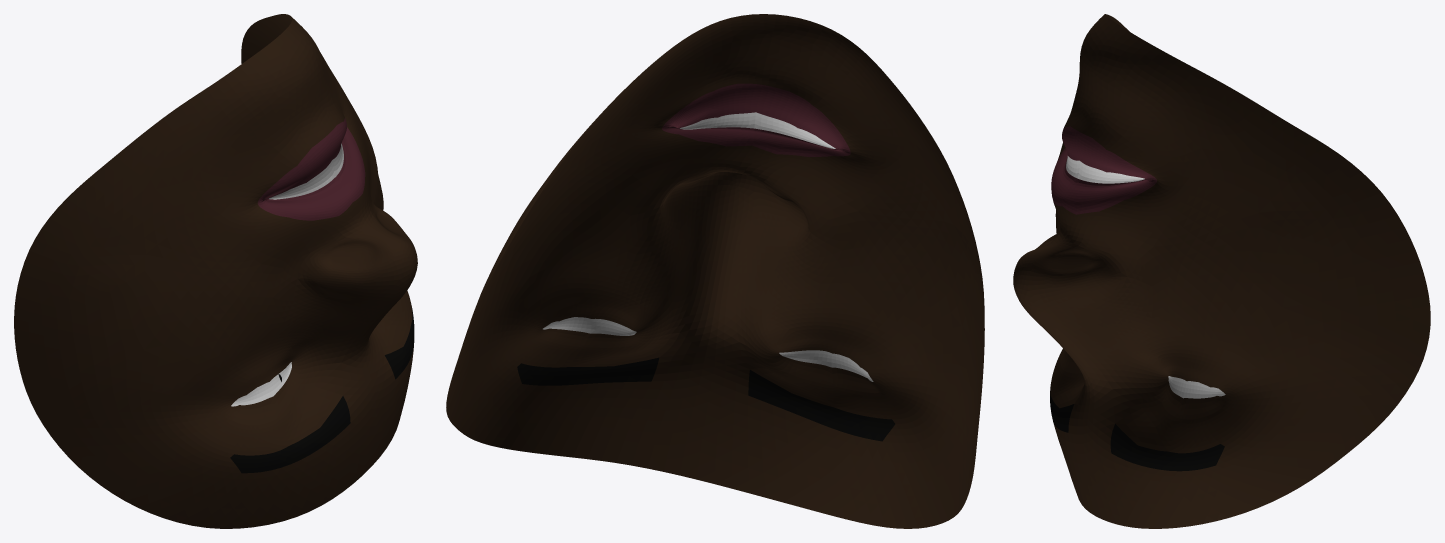
Rendered from frame_00080.obj.
3 renders of one model, left to right at view 1: azimuth 30°, elevation 25°; view 2: azimuth 150°, elevation 25°; view 3: azimuth 270°, elevation 25°, orthographic. The views are drawn at different scales.
Parts seen in each view (by area): view 1: face_mesh_subdivided; view 2: face_mesh_subdivided; view 3: face_mesh_subdivided.
Part boxes in pixels (x1,y1,x2,y2): face_mesh_subdivided: [14, 14, 417, 528]; face_mesh_subdivided: [446, 14, 984, 528]; face_mesh_subdivided: [1013, 14, 1430, 528].
Size of the model in its own units: 0.5026 by 0.5429 by 0.4392.
